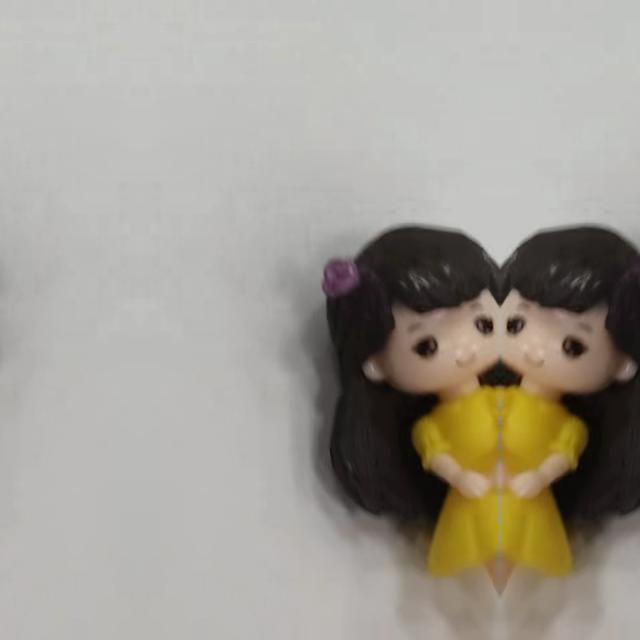woman head: (292, 202, 494, 370), (506, 202, 640, 370)
